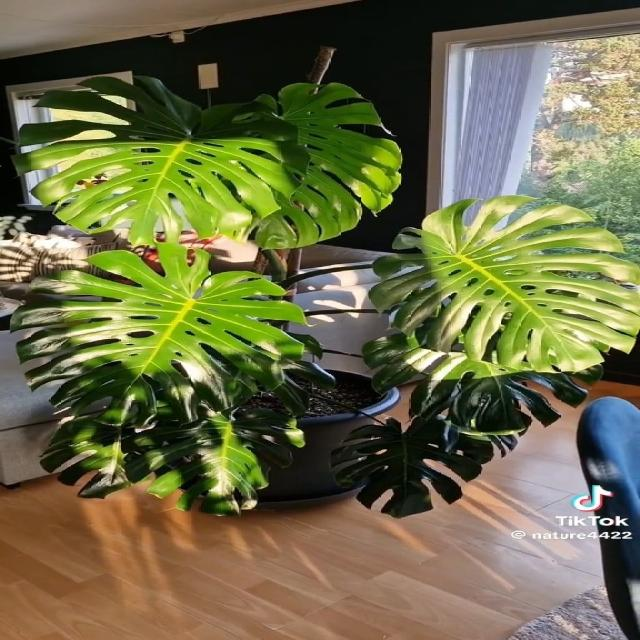roslina_zdrowa: (8, 77, 640, 518)
